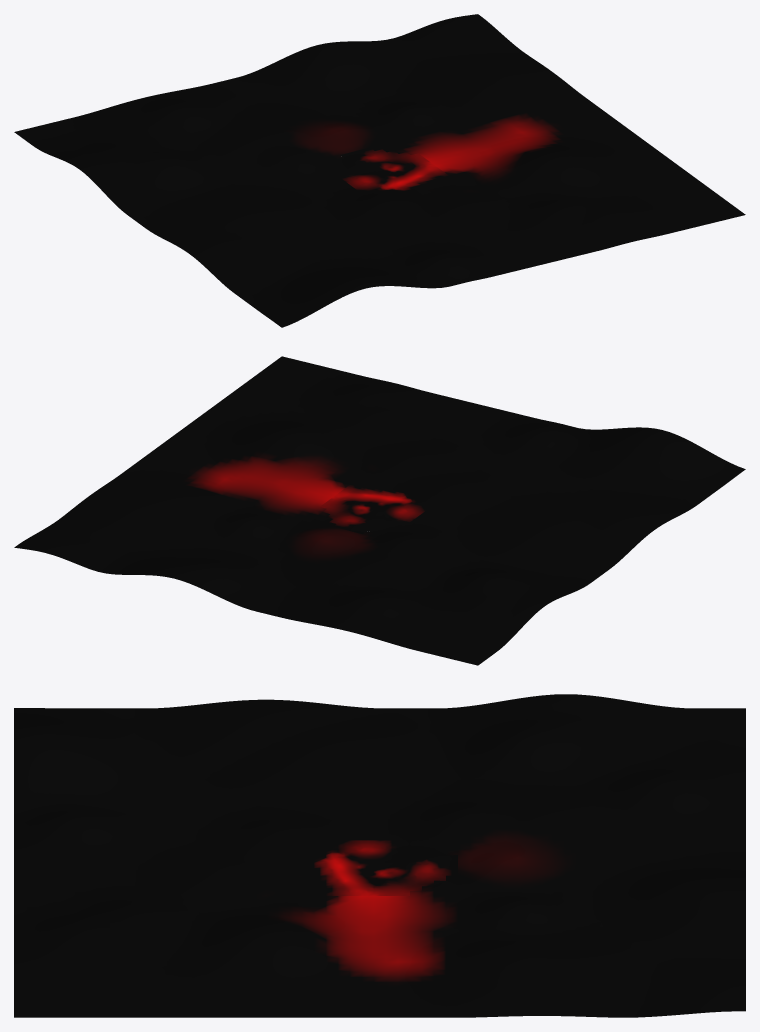
Rendered from Earth_Field.fbx.
3 views of the same model, one above another, from view 1: azimuth 30°, elevation 25°; view 2: azimuth 150°, elevation 25°; view 3: azimuth 270°, elevation 25° (orthographic). The views are drawn at different scales.
Visible parts, largest first — view 1: Earth_outside, Earth_Farm; view 2: Earth_outside, Earth_Farm; view 3: Earth_outside, Earth_Farm.
Boxes of the visible parts, left/top/right/bottom form: Earth_outside: left=14, top=14, right=745, bottom=327; Earth_Farm: left=326, top=147, right=448, bottom=196; Earth_outside: left=14, top=356, right=745, bottom=665; Earth_Farm: left=320, top=482, right=433, bottom=534; Earth_outside: left=14, top=694, right=745, bottom=1017; Earth_Farm: left=290, top=838, right=457, bottom=895.
Size of the model in its own units: 45335 by 1938 by 45335.
